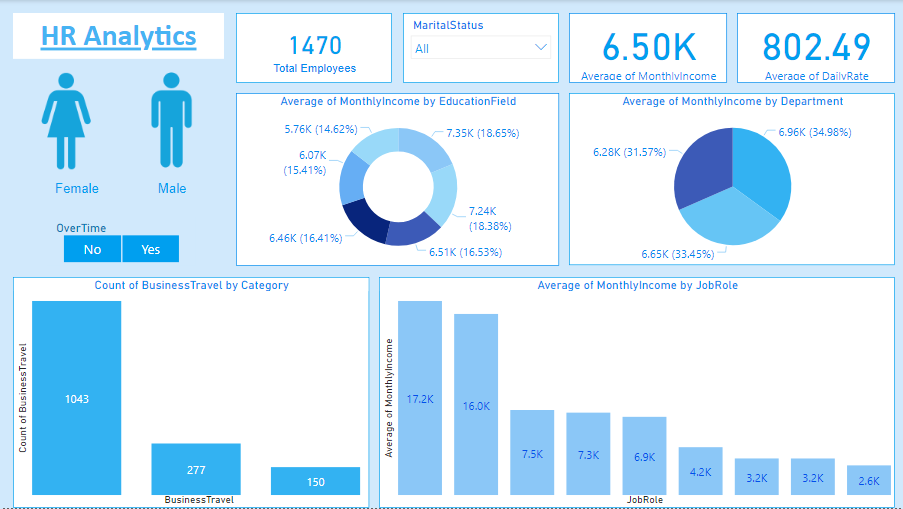

The dashboard page shown, as its layout file describes it:
{"tool":"powerbi","page":{"name":"Page 1","canvas":[1280,720],"ordinal":0},"visuals":[{"type":"card","fields":{"Values":["CountNonNull(Sheet1.Gender)"]},"box":[334.5,18.4,221.1,99.2],"z":0},{"type":"slicer","fields":{"Values":["Sheet1.Gender"]},"box":[18.4,245.2,316.1,39.7],"z":1000},{"type":"donutChart","fields":{"Y":["Avg(Sheet1.MonthlyIncome)"],"Category":["Sheet1.EducationField"]},"box":[334.5,131.8,457.8,245.2],"z":2000},{"type":"columnChart","fields":{"Y":["Avg(Sheet1.MonthlyIncome)"],"Category":["Sheet1.JobRole"]},"box":[537.2,392.6,731.3,327.4],"z":3000},{"type":"pieChart","fields":{"Y":["Avg(Sheet1.MonthlyIncome)"],"Category":["Sheet1.Department"]},"box":[806.5,131.8,462,243.8],"z":4000},{"type":"slicer","fields":{"Values":["Sheet1.MaritalStatus"]},"box":[571.2,18.4,221.1,99.2],"z":5000},{"type":"clusteredColumnChart","title":"Count of BusinessTravel by Category","fields":{"Category":["Sheet1.BusinessTravel"],"Y":["CountNonNull(Sheet1.BusinessTravel)"]},"box":[18.4,392.6,504.6,327.4],"z":6000},{"type":"slicer","fields":{"Values":["Sheet1.OverTime"]},"box":[66.6,307.6,211.2,69.4],"z":7000},{"type":"card","fields":{"Values":["Avg(Sheet1.MonthlyIncome)"]},"box":[806.5,18.4,223.9,99.2],"z":8000},{"type":"card","fields":{"Values":["Avg(Sheet1.DailyRate)"]},"box":[1044.6,18.4,223.9,99.2],"z":9000},{"type":"textbox","box":[18.4,18.4,299.1,65.2],"z":10000},{"type":"image","box":[168.7,95,148.8,150.2],"z":11000},{"type":"image","box":[18.4,95,148.8,150.2],"z":12000}]}

Visuals, with their boxes in screenshot pixels (x1, y1, x2, y2), scaled from the page's 1280x720 canvas onto the 903x509 screenshot:
card - CountNonNull(Sheet1.Gender): <box>236,13,392,83</box>
slicer - Sheet1.Gender: <box>13,173,236,201</box>
donutChart - Avg(Sheet1.MonthlyIncome) x Sheet1.EducationField: <box>236,93,559,267</box>
columnChart - Avg(Sheet1.MonthlyIncome) x Sheet1.JobRole: <box>379,278,895,508</box>
pieChart - Avg(Sheet1.MonthlyIncome) x Sheet1.Department: <box>569,93,895,266</box>
slicer - Sheet1.MaritalStatus: <box>403,13,559,83</box>
"Count of BusinessTravel by Category" clusteredColumnChart: <box>13,278,369,508</box>
slicer - Sheet1.OverTime: <box>47,217,196,267</box>
card - Avg(Sheet1.MonthlyIncome): <box>569,13,727,83</box>
card - Avg(Sheet1.DailyRate): <box>737,13,895,83</box>
textbox: <box>13,13,224,59</box>
image: <box>119,67,224,173</box>
image: <box>13,67,118,173</box>
